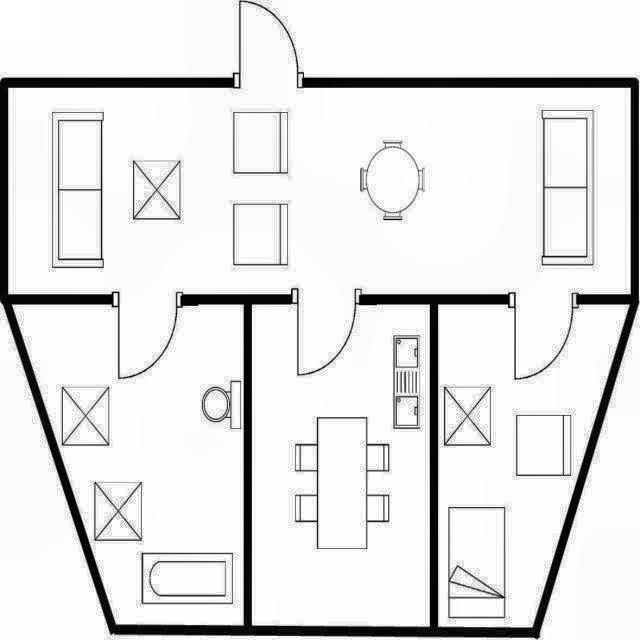room: (8, 86, 631, 295), (12, 304, 244, 625), (438, 304, 630, 628), (252, 304, 430, 627)
